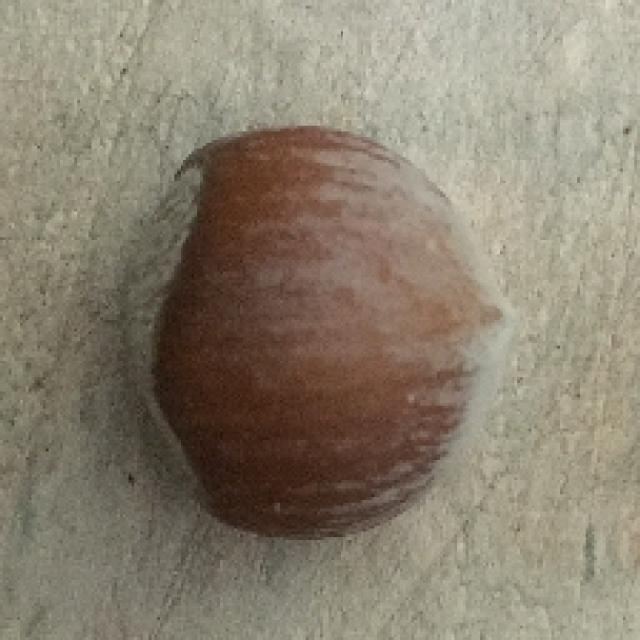QualityHazelnut: (120, 122, 524, 536)
